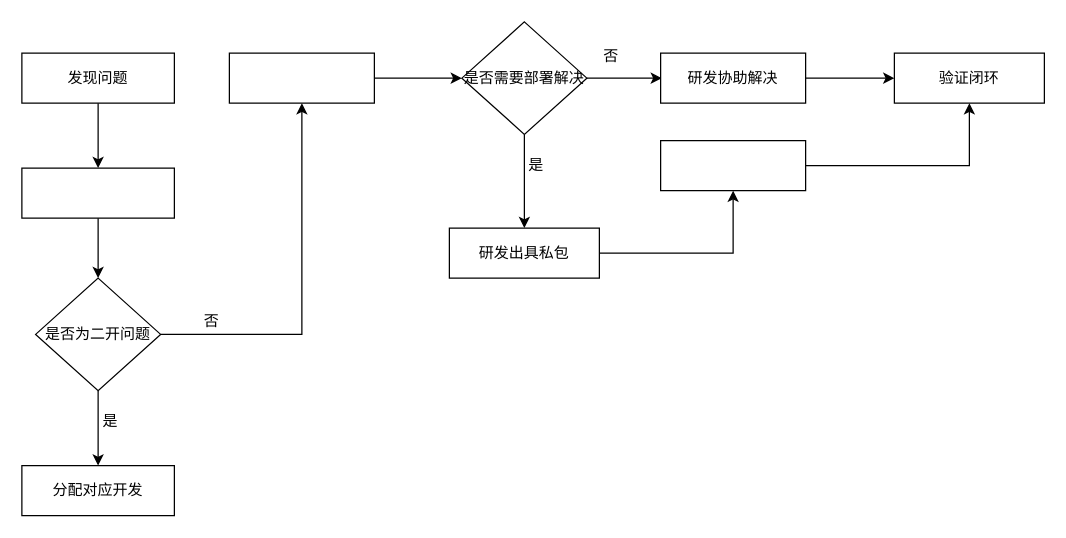
This 1066x538 diagram has some shape labels left out. Here are the shapes that lost their labels. From the top down, the centre of each, then its label:
the point at 301,77: 转项群反馈/提工单
the point at 732,165: 走部署流程解决
the point at 97,192: 判断问题归属
